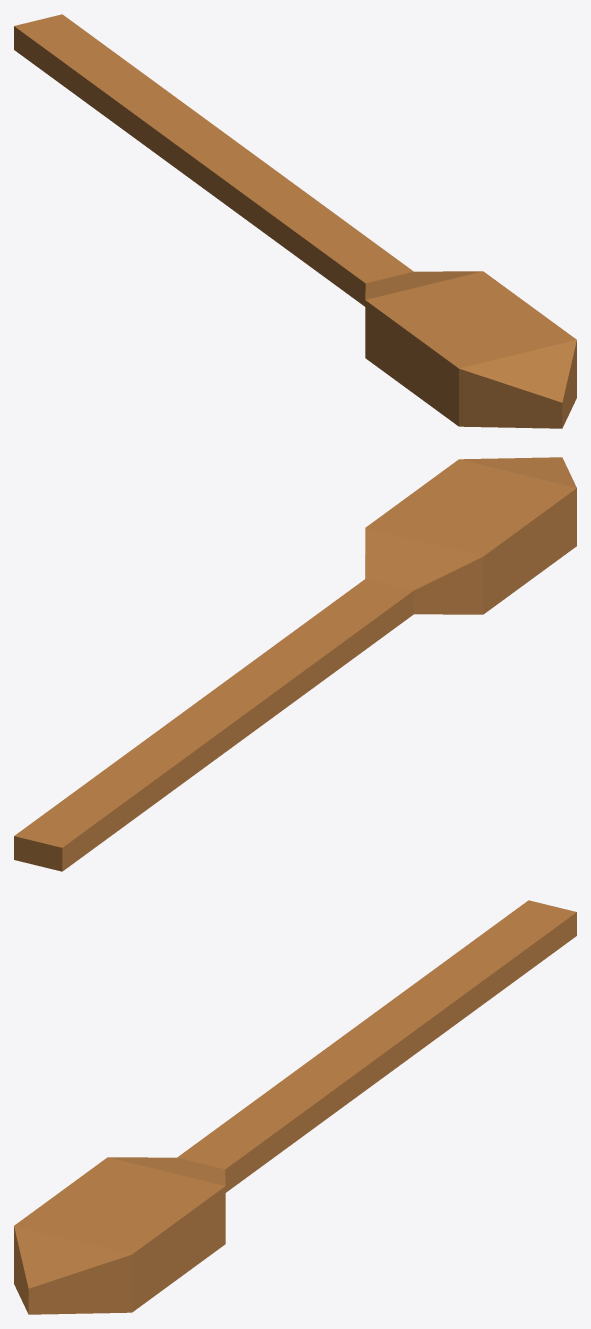
Rendered from canoe_paddle.glb.
3 renders of one model, top to bottom at view 1: azimuth 30°, elevation 25°; view 2: azimuth 150°, elevation 25°; view 3: azimuth 330°, elevation 25°, orthographic.
Parts seen in each view (by area): view 1: canoe_paddle; view 2: canoe_paddle; view 3: canoe_paddle.
Boxes of the visible parts, left/top/right/bottom form: canoe_paddle: left=14, top=14, right=576, bottom=428; canoe_paddle: left=14, top=457, right=576, bottom=871; canoe_paddle: left=14, top=900, right=576, bottom=1314.
Size of the model in its own units: 0.0767 by 0.0361 by 0.5902.
